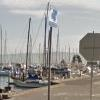Boat: (6, 61, 62, 87)
